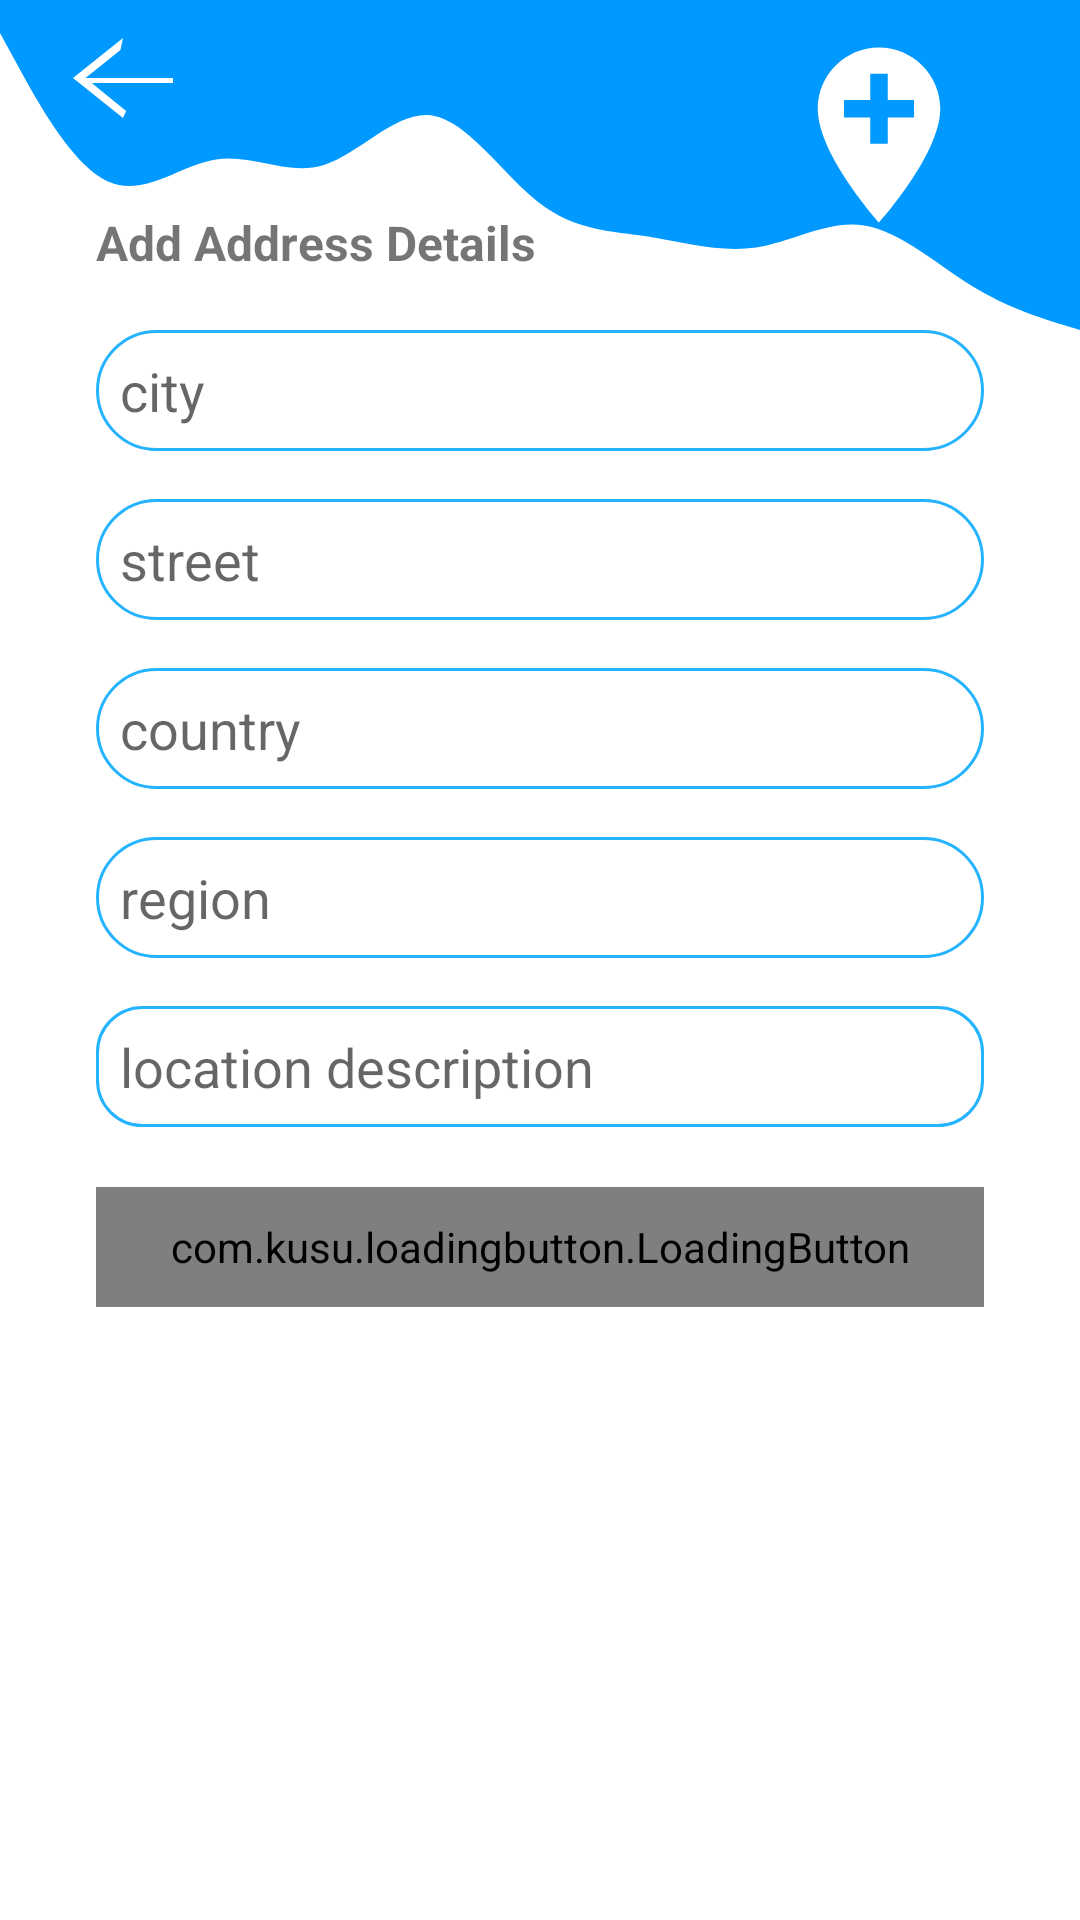

Where icons sit on this 1080w x 1920h app screen, as (x1, y1, x2, y2):
back arrow: (73, 38, 173, 118)
location: (817, 47, 941, 223)
